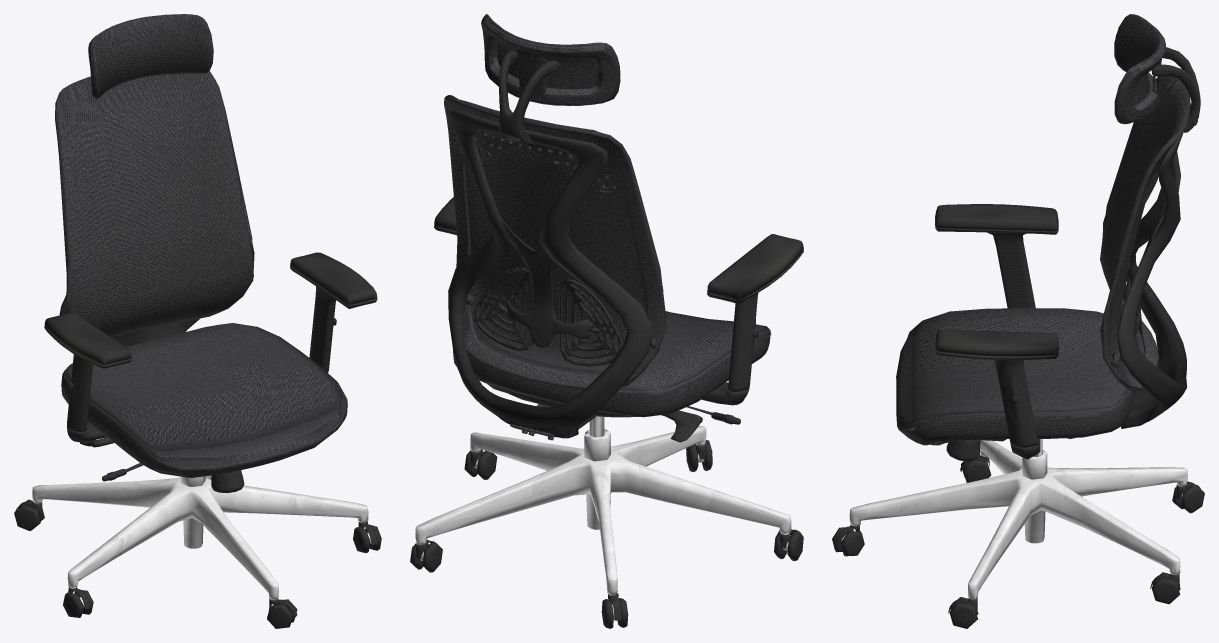
File: NFG-I0032.glb
3 renders of one model, left to right at view 1: azimuth 30°, elevation 25°; view 2: azimuth 150°, elevation 25°; view 3: azimuth 270°, elevation 25°, orthographic. The views are drawn at different scales.
Parts seen in each view (by area): view 1: mayer y85_, Object001, Object002, Object003; view 2: mayer y85_, Object002, Object001, Object003; view 3: mayer y85_, Object002, Object001, Object003.
Part boxes in pixels (x1=…): mayer y85_: x1=55, y1=14, x2=347, y2=477; Object001: x1=32, y1=475, x2=371, y2=607; Object002: x1=44, y1=252, x2=377, y2=493; Object003: x1=14, y1=478, x2=381, y2=628; mayer y85_: x1=444, y1=14, x2=771, y2=440; Object002: x1=434, y1=49, x2=803, y2=442; Object001: x1=415, y1=416, x2=791, y2=619; Object003: x1=410, y1=440, x2=803, y2=628; mayer y85_: x1=896, y1=14, x2=1190, y2=445; Object002: x1=935, y1=47, x2=1200, y2=461; Object001: x1=841, y1=439, x2=1187, y2=599; Object003: x1=832, y1=455, x2=1204, y2=628.
Bounding box in the file's own units: 1.27 × 2 × 1.31.
Materials: 3 (3 with a texture image).
